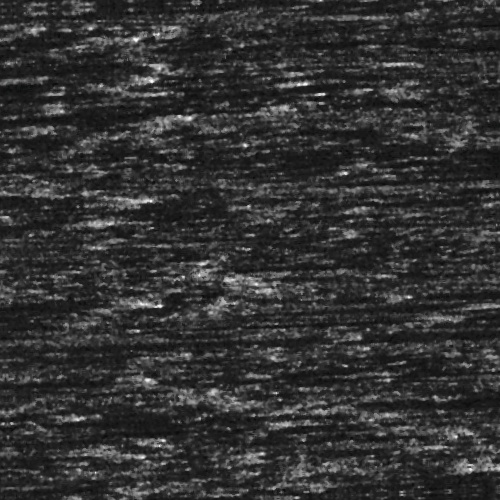object: (389, 319, 462, 326), (0, 173, 38, 186), (465, 307, 500, 316), (307, 334, 348, 341), (122, 183, 133, 202), (96, 292, 137, 297), (171, 82, 182, 91), (89, 211, 100, 216)
shadow: (401, 326, 500, 351), (0, 183, 127, 202), (54, 334, 327, 341), (301, 307, 500, 316), (0, 82, 177, 91), (224, 319, 426, 326), (350, 180, 500, 189), (0, 292, 116, 297), (445, 405, 500, 414), (0, 211, 94, 216)
